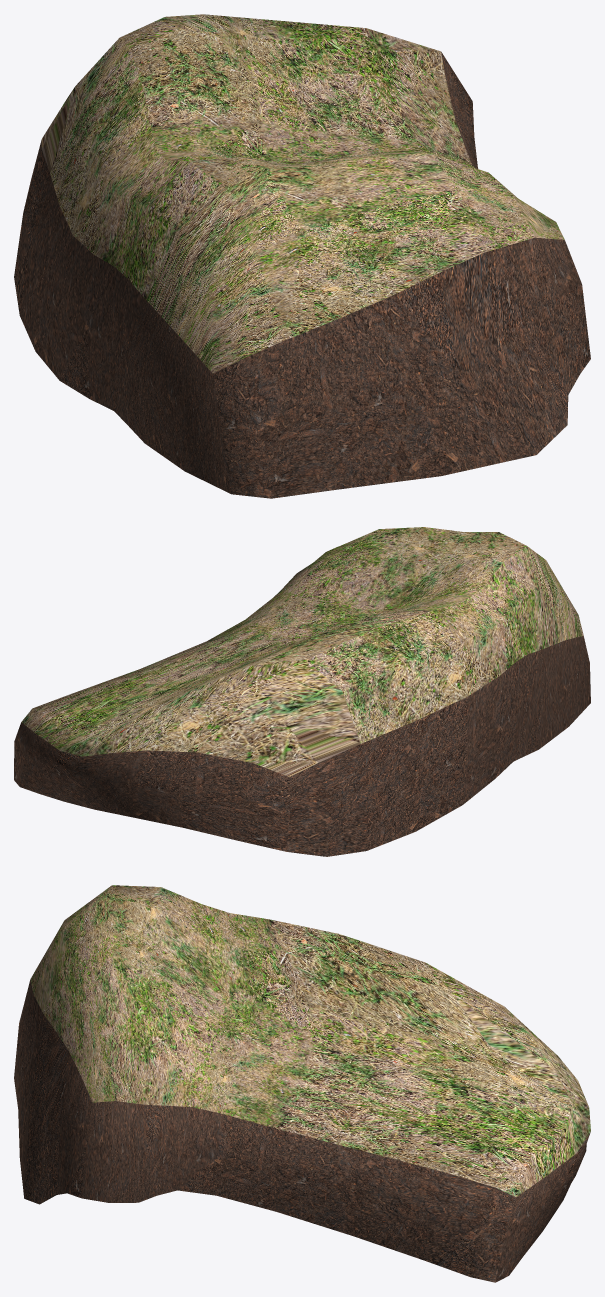
3 views of the same model, one above another, from view 1: azimuth 30°, elevation 25°; view 2: azimuth 150°, elevation 25°; view 3: azimuth 270°, elevation 25° (orthographic). The views are drawn at different scales.
Parts seen in each view (by area): view 1: Plane010_grass_0, Plane010_dirt_0; view 2: Plane010_grass_0, Plane010_dirt_0; view 3: Plane010_grass_0, Plane010_dirt_0.
Part boxes in pixels (x1,y1,x2,y2): Plane010_grass_0: (41,14,564,373); Plane010_dirt_0: (14,52,590,498); Plane010_grass_0: (21,527,583,777); Plane010_dirt_0: (14,636,590,856); Plane010_grass_0: (30,885,590,1197); Plane010_dirt_0: (14,980,590,1282).
Size of the model in its own units: 44.32 by 23 by 52.85.
2 materials, 2 textured.
